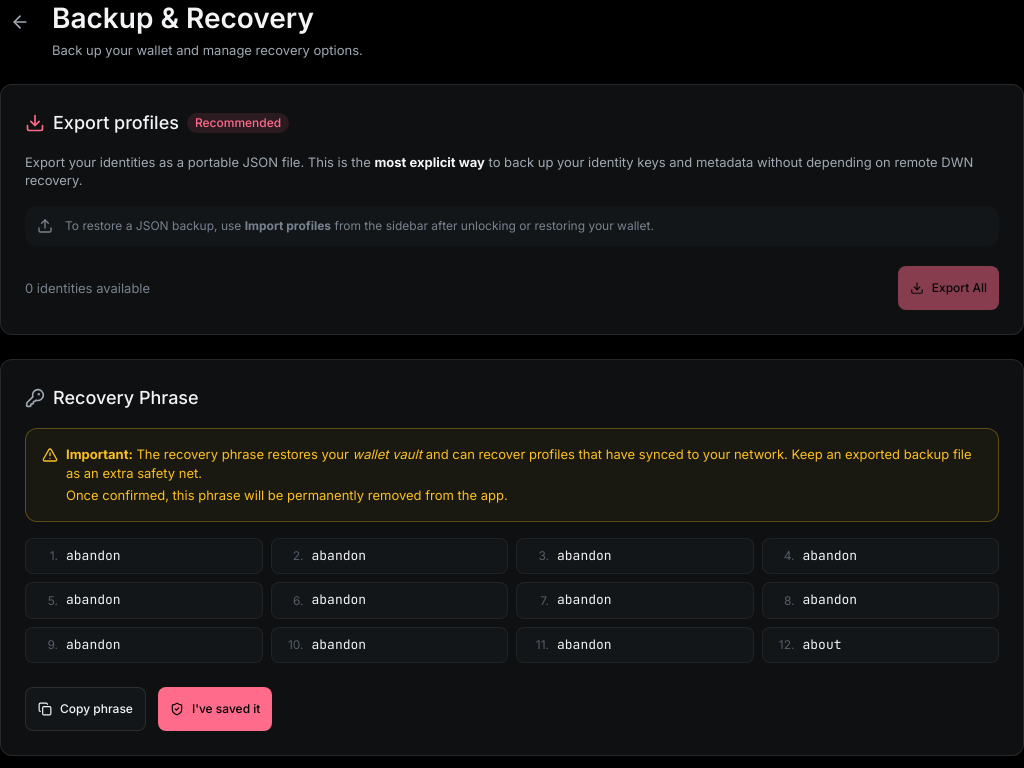
Test: BackupPage › shows confirmation dialog when clicking the save button
Click the button "I've saved it" at (215, 709), box [158,687,272,731]
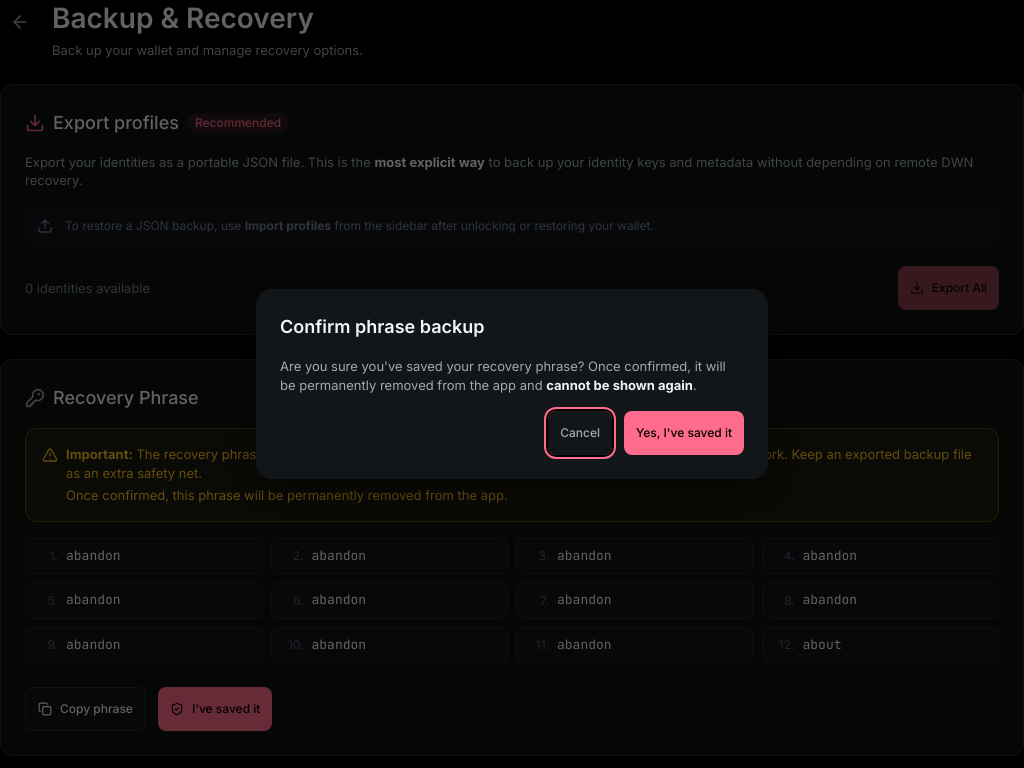
Check: the dialog is shown
Check: the text "Are you sure" is shown, box [280,358,726,393]
